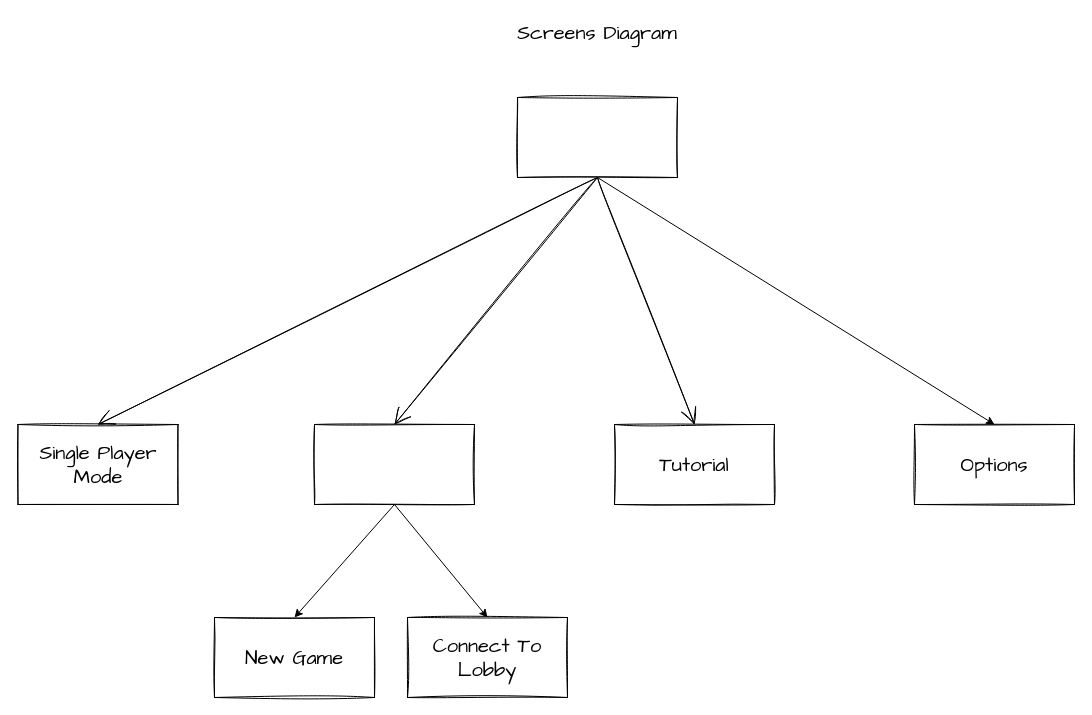
The diagram is 1092 pixels wide and 715 high, and some of its shapes have lost their labels. Here are the shapes that lost their labels. From the top down, the centre of each, then its label:
At (x=597, y=137): "Main Screen".
At (x=394, y=464): "Multiplayer Mode".
